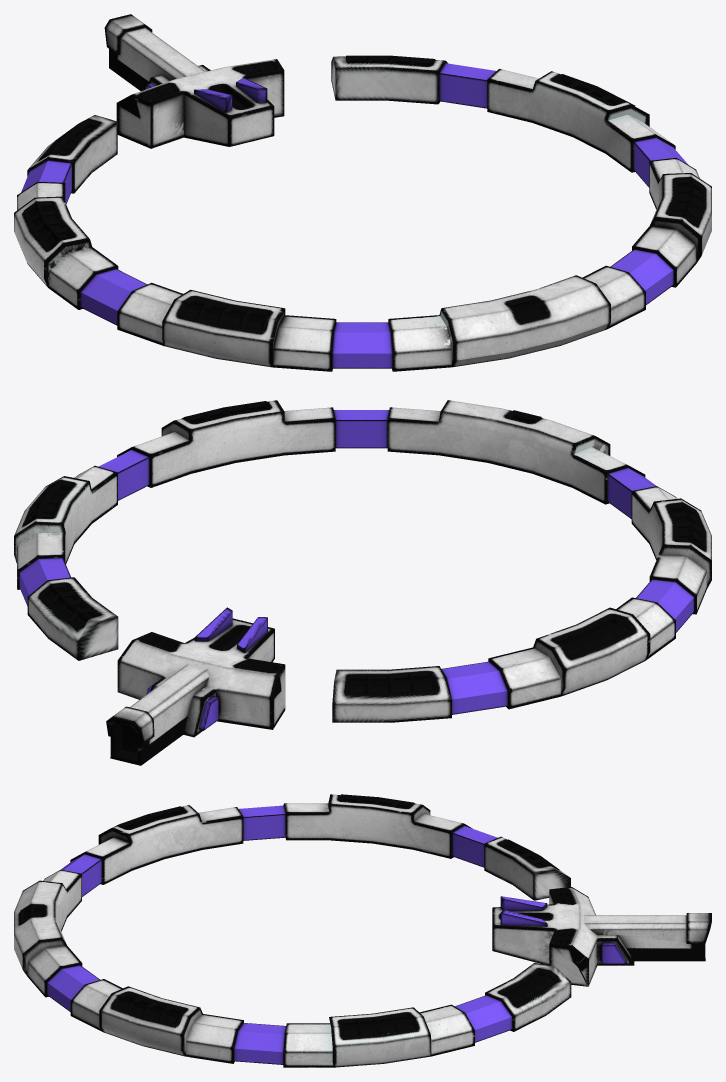
File: RingMid.fbx
The picture shows the model from 3 angles, top to bottom: view 1: azimuth 30°, elevation 25°; view 2: azimuth 150°, elevation 25°; view 3: azimuth 270°, elevation 25°; orthographic projection. The views are drawn at different scales.
Visible parts, largest first — view 1: Ring; view 2: Ring; view 3: Ring.
Boxes of the visible parts, <box> form: Ring: <box>14,14,711,371</box>; Ring: <box>14,400,711,765</box>; Ring: <box>14,794,711,1067</box>.
Bounding box in the file's own units: 1447 × 138 × 1726.
1 material, 1 textured.
